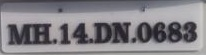character: (6, 22, 32, 45), (111, 20, 131, 43), (32, 22, 52, 44), (93, 20, 112, 43), (72, 22, 88, 44), (182, 19, 196, 44), (137, 20, 152, 43), (166, 21, 182, 41), (152, 21, 166, 42), (59, 22, 70, 44)
